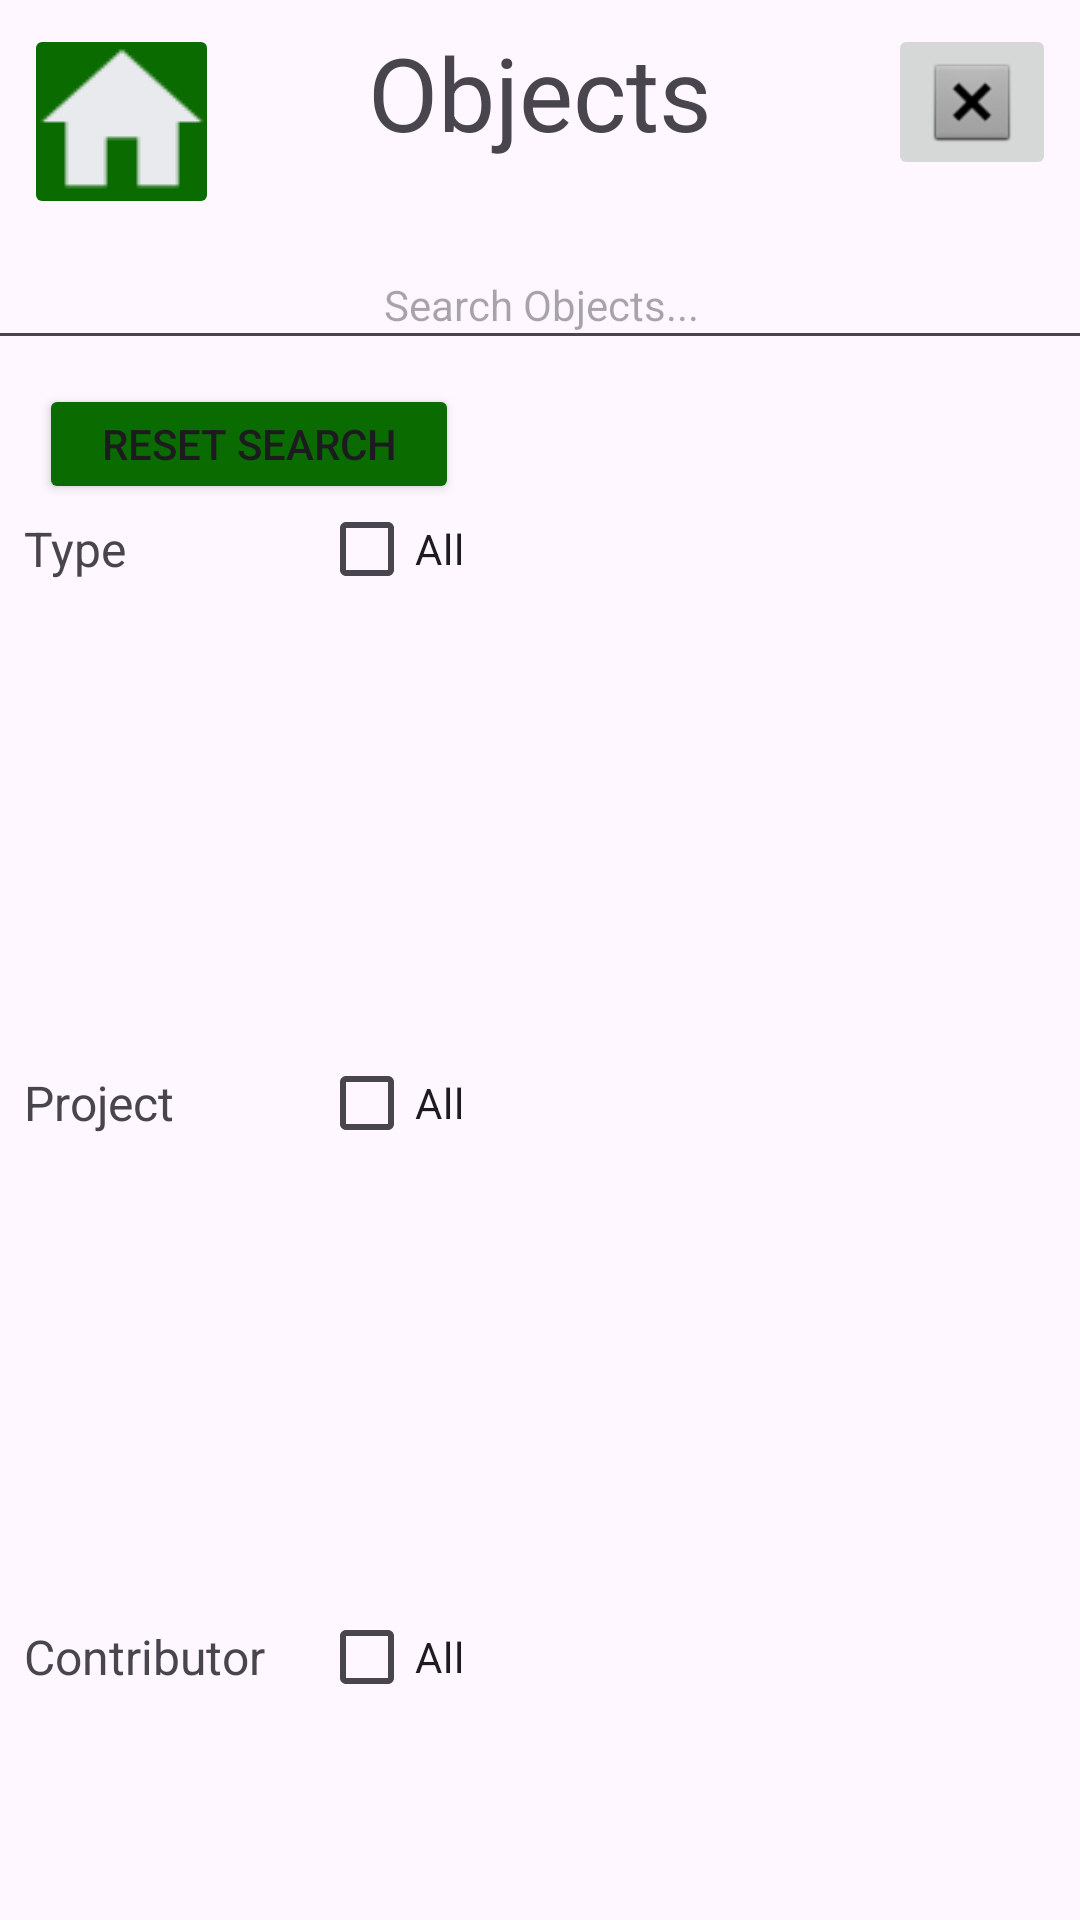

Named icons in this screenshot (1080×1920) and their centers, (x,y):
homebtn: (121,121)
